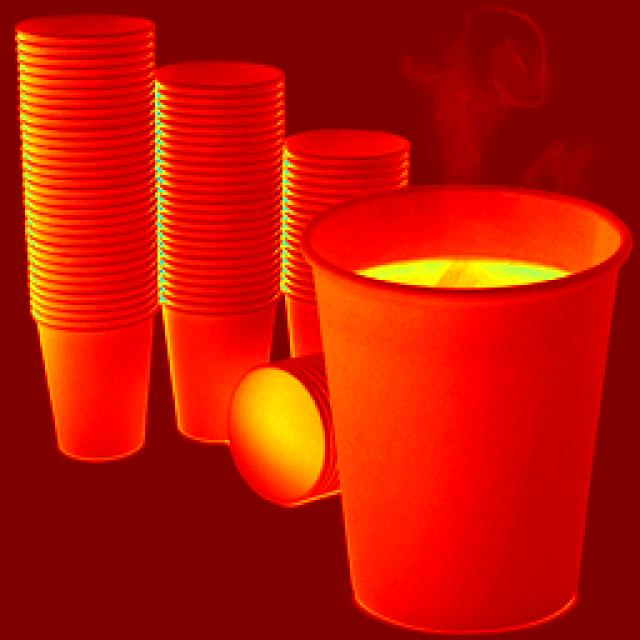Paper Cups: (296, 193, 636, 640), (11, 19, 168, 434), (164, 57, 276, 360), (225, 338, 334, 524), (270, 114, 426, 220)
